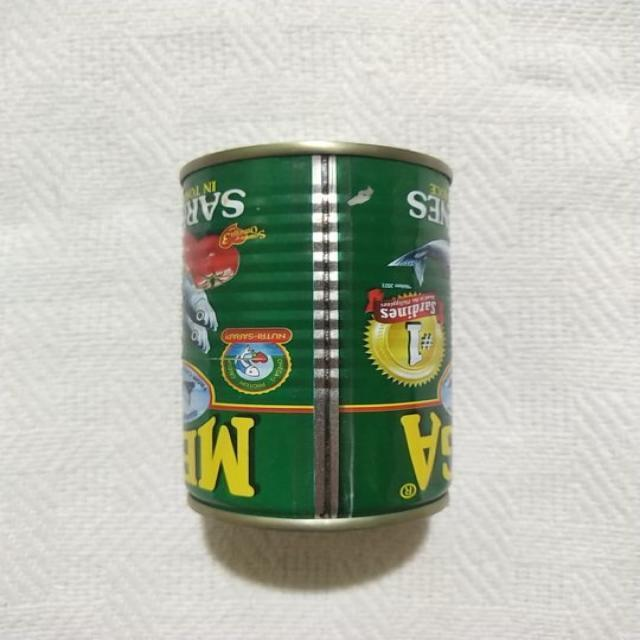metal-can: (179, 142, 452, 526)
